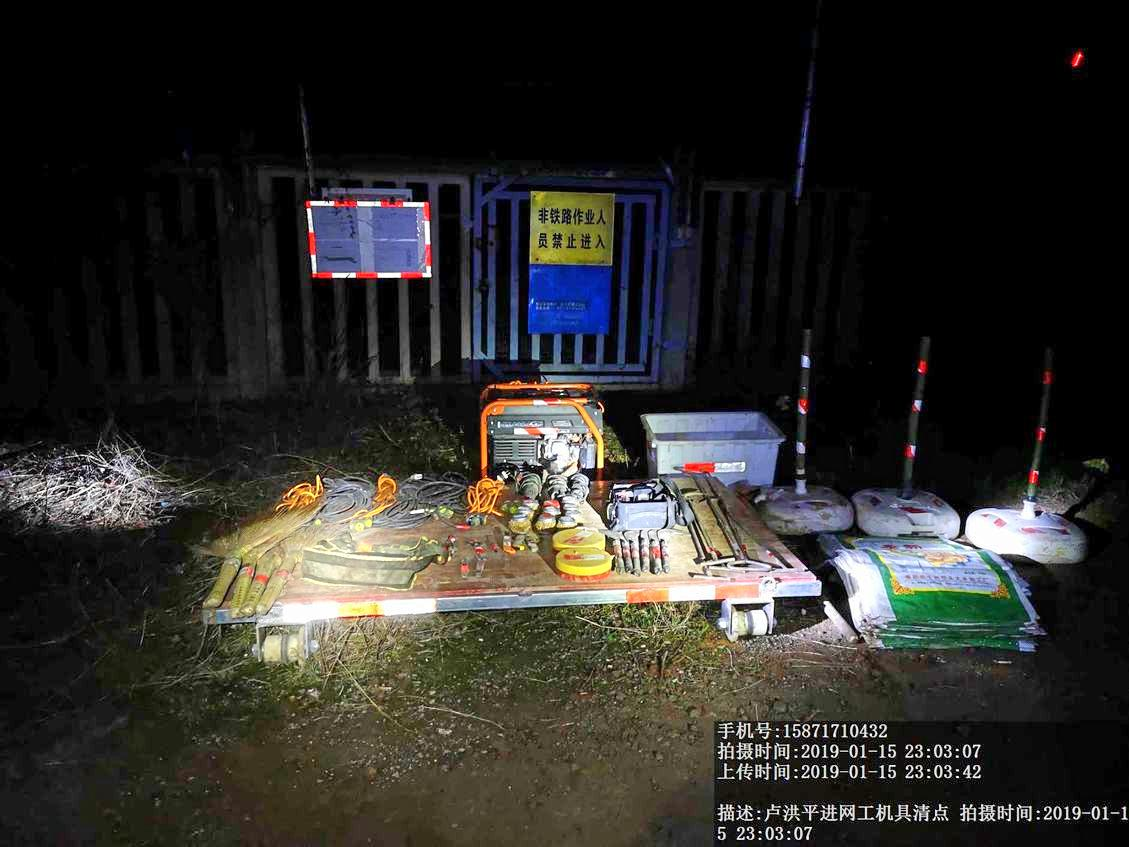BZD: (833, 532, 1048, 669)
DJ: (468, 370, 612, 472)
DX: (393, 466, 464, 532), (464, 472, 514, 529)
GJB: (304, 528, 437, 592), (611, 472, 680, 533)
JC: (546, 547, 612, 589), (546, 523, 606, 549)
SB: (185, 508, 311, 608)
ST: (964, 341, 1101, 555), (866, 329, 966, 536), (763, 328, 854, 533)
T: (635, 404, 787, 491)
